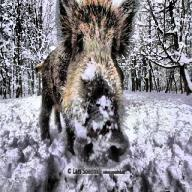boar: (36, 0, 140, 168)
